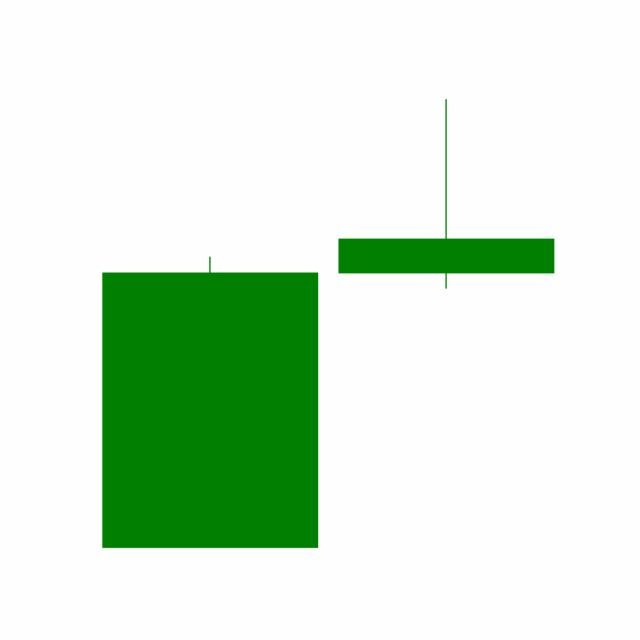Gravestone Doji: (327, 97, 565, 291)
